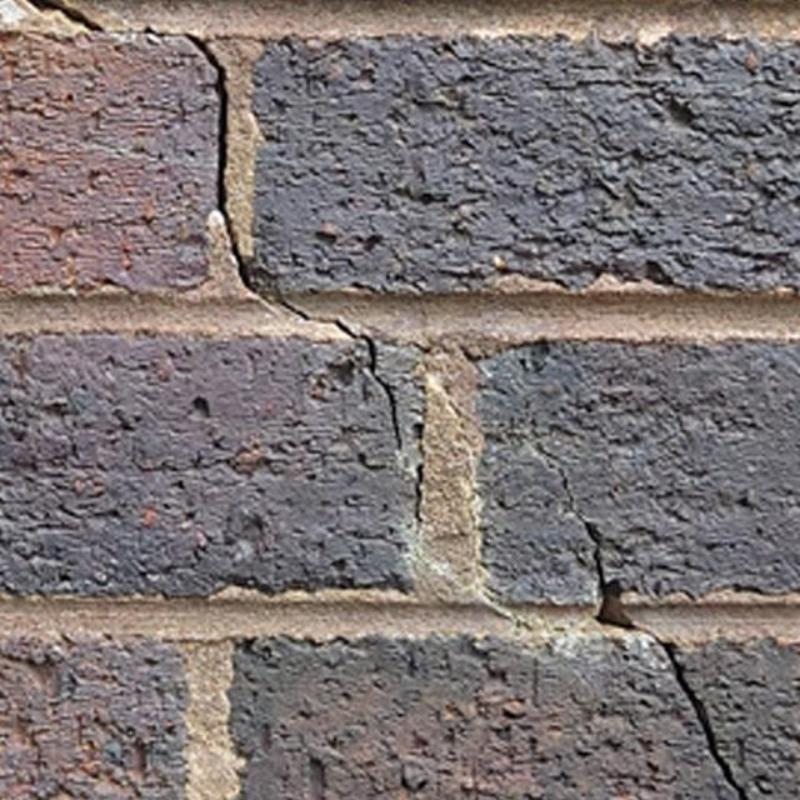pothole: (585, 524, 750, 799), (186, 35, 256, 293), (280, 301, 402, 449), (27, 0, 103, 31)
